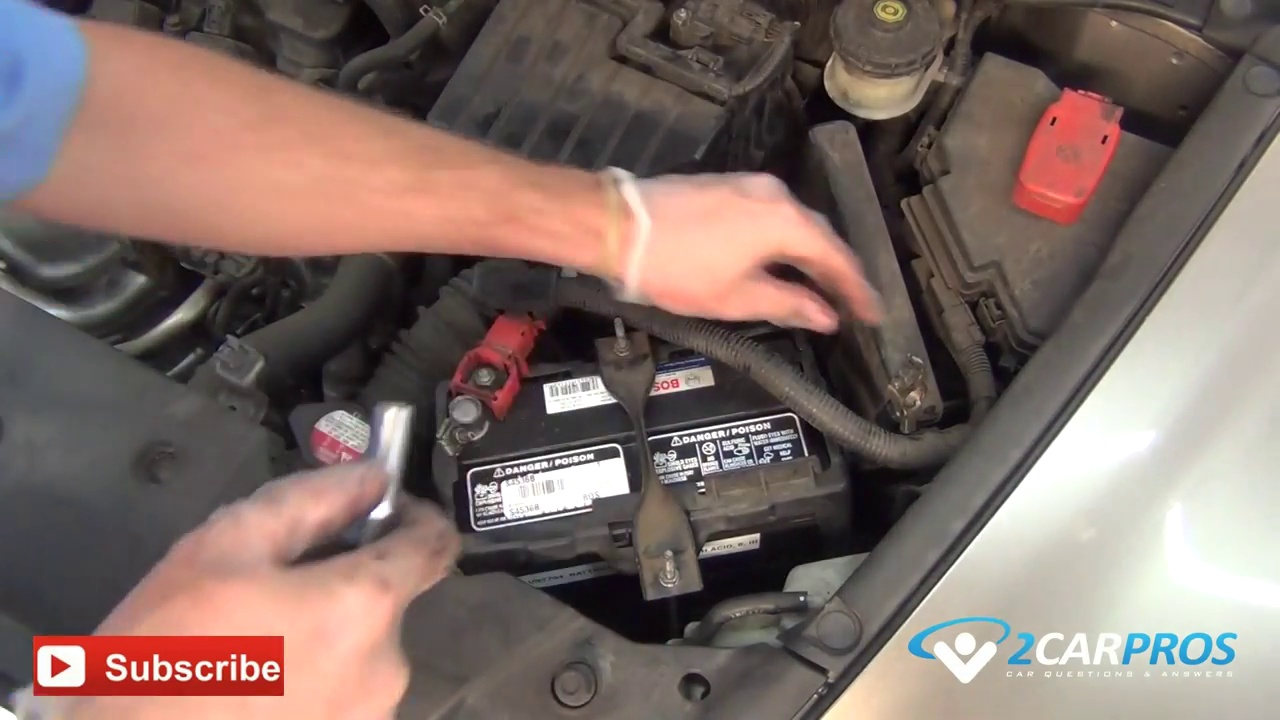battery: (433, 335, 829, 544)
pos_connected: (425, 302, 552, 464)
